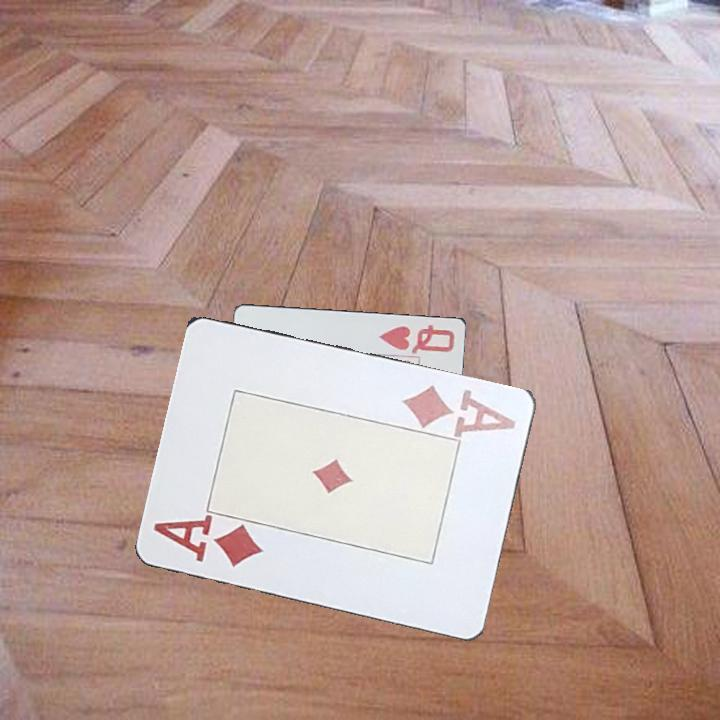Ad: (399, 380, 519, 438), (150, 514, 268, 570)
Qh: (375, 321, 458, 357)
